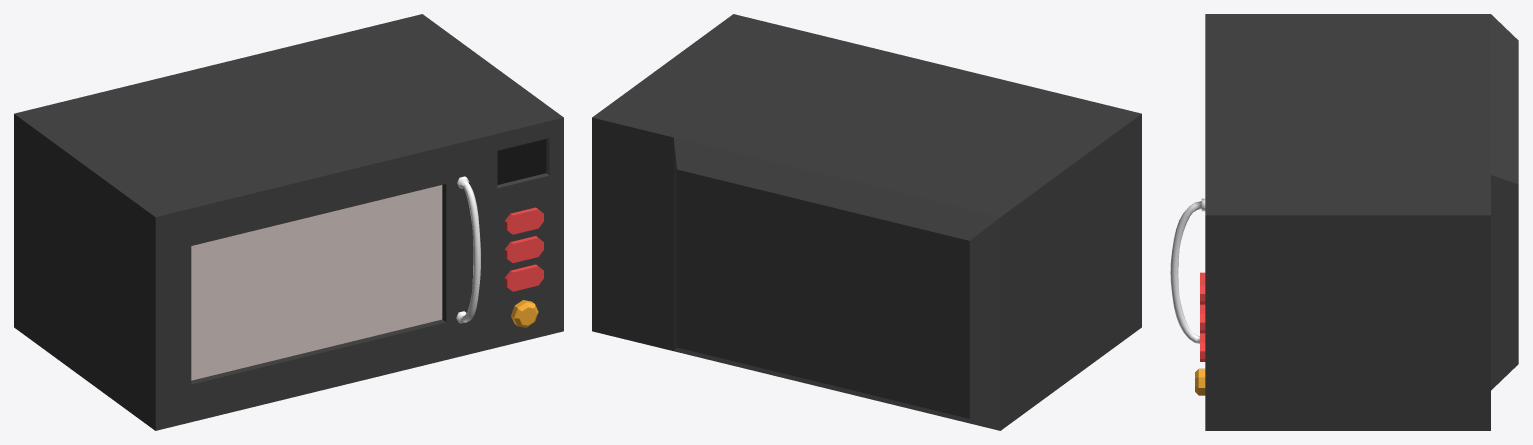
Rendered from MicroWave.fbx.
3 renders of one model, left to right at view 1: azimuth 30°, elevation 25°; view 2: azimuth 150°, elevation 25°; view 3: azimuth 270°, elevation 25°, orthographic.
Visible parts, largest first — view 1: MicroWave; view 2: MicroWave; view 3: MicroWave.
Part boxes in pixels (box(x1,y1,x2,y2)): MicroWave: box(14, 14, 563, 430); MicroWave: box(592, 14, 1141, 430); MicroWave: box(1170, 14, 1518, 430).
Size of the model in its own units: 60 by 30 by 43.87.
